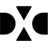DXC: (1, 5, 48, 41)
